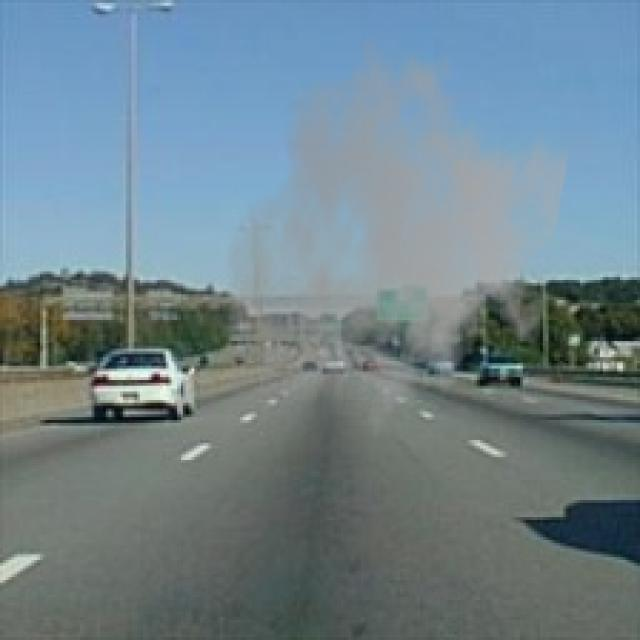smoke: (220, 32, 571, 457)
